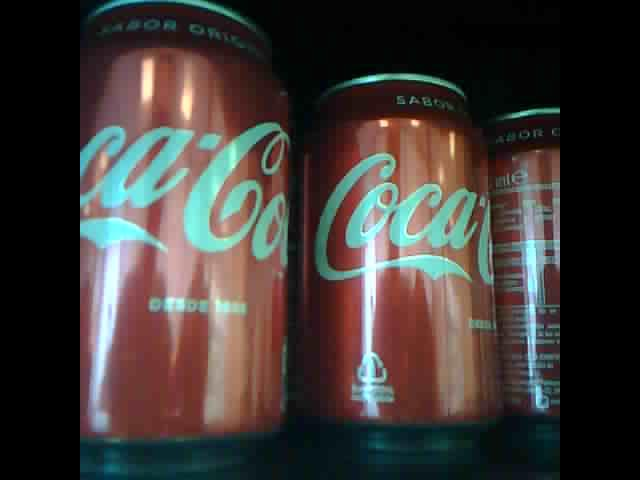coca cola: (80, 3, 290, 456), (302, 71, 493, 436), (485, 104, 560, 426)
